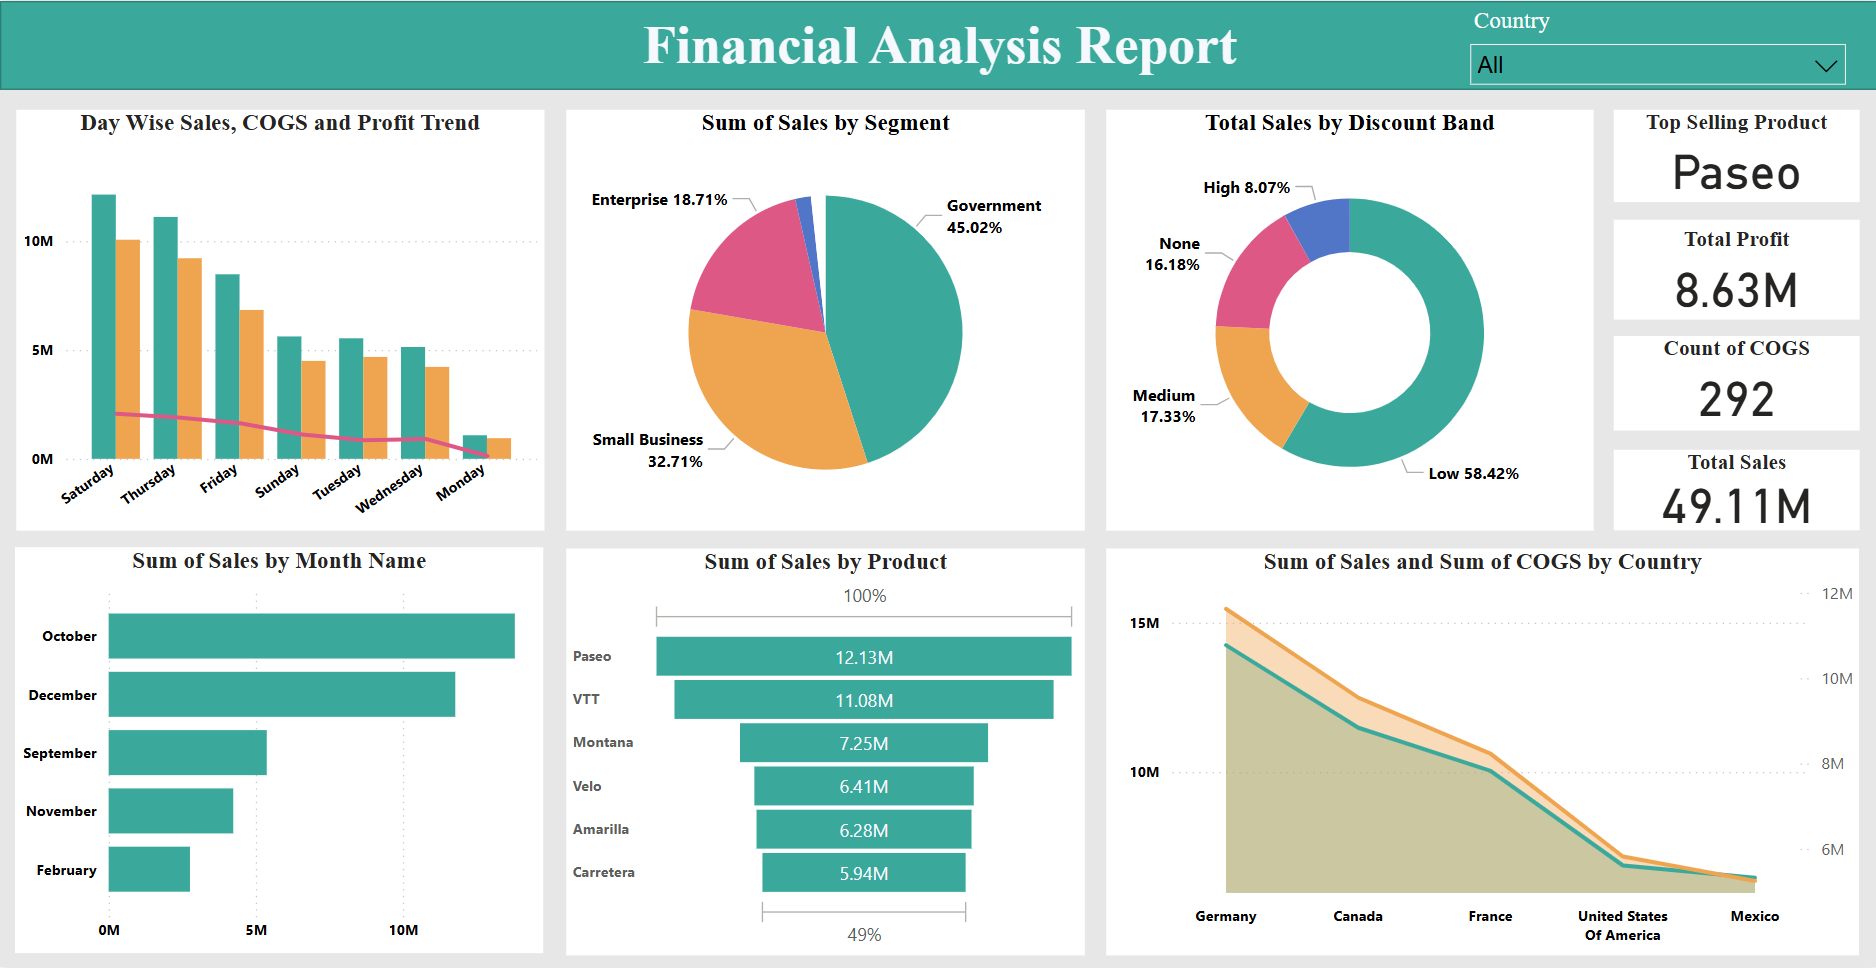

The page's visual inventory and layout, read from the dashboard file:
{"tool":"powerbi","page":{"name":"Page 1","canvas":[1400,720],"ordinal":0},"visuals":[{"type":"shape","box":[0,0,1400.5,66.2],"z":0},{"type":"barChart","fields":{"Category":["Final_Data.Month Name"],"Y":["Sum(Final_Data. Sales)"]},"box":[11.4,407.4,393.9,302.4],"z":1000},{"type":"donutChart","title":"Total Sales by Discount Band","fields":{"Category":["Final_Data.Discount Band"],"Y":["Sum(Final_Data. Sales)"]},"box":[824.4,81.1,363.3,313.3],"z":2000},{"type":"pieChart","fields":{"Category":["Final_Data.Segment"],"Y":["Sum(Final_Data. Sales)"]},"box":[422.1,81.3,386.7,313.3],"z":3000},{"type":"areaChart","fields":{"Category":["Final_Data.Country"],"Y":["Sum(Final_Data. Sales)"],"Y2":["Sum(Final_Data.COGS)"]},"box":[824.5,407.7,561,302.8],"z":4000},{"type":"lineClusteredColumnComboChart","title":"Day Wise Sales, COGS and Profit Trend","fields":{"Category":["Final_Data.Day Name"],"Y":["Sum(Final_Data. Sales)","Sum(Final_Data.COGS)"],"Y2":["Sum(Final_Data.Profit)"]},"box":[11.8,81.3,393.3,313.3],"z":5000},{"type":"funnel","fields":{"Category":["Final_Data.Product"],"Y":["Sum(Final_Data. Sales)"]},"box":[422.1,407.7,386.7,302.8],"z":6000},{"type":"card","title":"Top Selling Product","fields":{"Values":["Min(Final_Data.Product)"]},"box":[1202.2,81.1,183.3,68.9],"z":7000},{"type":"card","title":"Count of COGS","fields":{"Values":["CountNonNull(Final_Data.COGS)"]},"box":[1202.2,250,183.3,70],"z":8000},{"type":"card","title":"Total Profit","fields":{"Values":["Sum(Final_Data.Profit)"]},"box":[1202.2,163.3,183.3,74.4],"z":9000},{"type":"slicer","fields":{"Values":["Final_Data.Country"]},"box":[1085.4,0,300.2,65.5],"z":10000},{"type":"card","title":"Total Sales","fields":{"Values":["Sum(Final_Data. Sales)"]},"box":[1202.1,334.3,183.5,60.3],"z":11000}]}

Visuals, with their boxes in screenshot pixels (x1, y1, x2, y2), scaled from the page's 1400x720 canvas onto the 1876x968 screenshot:
shape: crop(0, 0, 1875, 89)
barChart - Final_Data.Month Name x Sum(Final_Data. Sales): crop(15, 548, 543, 954)
"Total Sales by Discount Band" donutChart: crop(1105, 109, 1592, 530)
pieChart - Final_Data.Segment x Sum(Final_Data. Sales): crop(566, 109, 1084, 531)
areaChart - Final_Data.Country x Sum(Final_Data. Sales): crop(1105, 548, 1857, 955)
"Day Wise Sales, COGS and Profit Trend" lineClusteredColumnComboChart: crop(16, 109, 543, 531)
funnel - Final_Data.Product x Sum(Final_Data. Sales): crop(566, 548, 1084, 955)
"Top Selling Product" card: crop(1611, 109, 1857, 202)
"Count of COGS" card: crop(1611, 336, 1857, 430)
"Total Profit" card: crop(1611, 220, 1857, 320)
slicer - Final_Data.Country: crop(1454, 0, 1857, 88)
"Total Sales" card: crop(1611, 449, 1857, 531)
